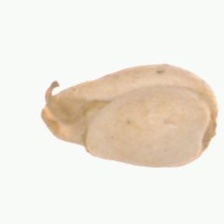L1: (39, 85, 93, 155), (202, 102, 217, 154)
L2: (40, 63, 217, 168)
